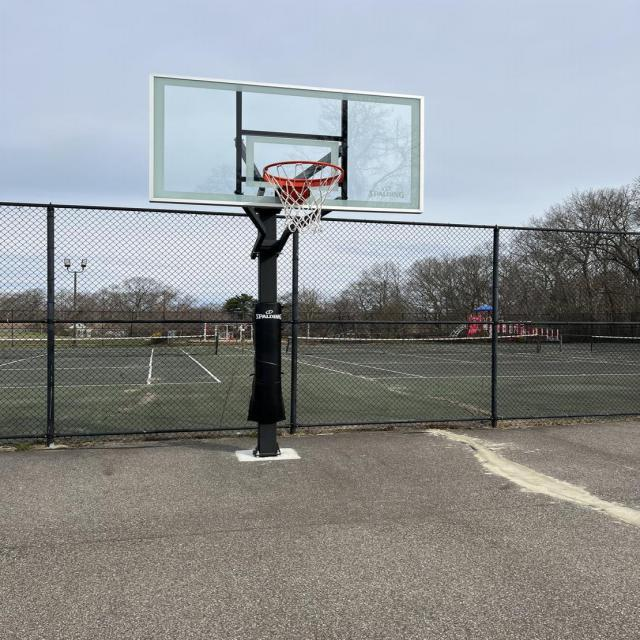Basketball: (280, 185, 310, 205)
hoop: (262, 160, 344, 234)
